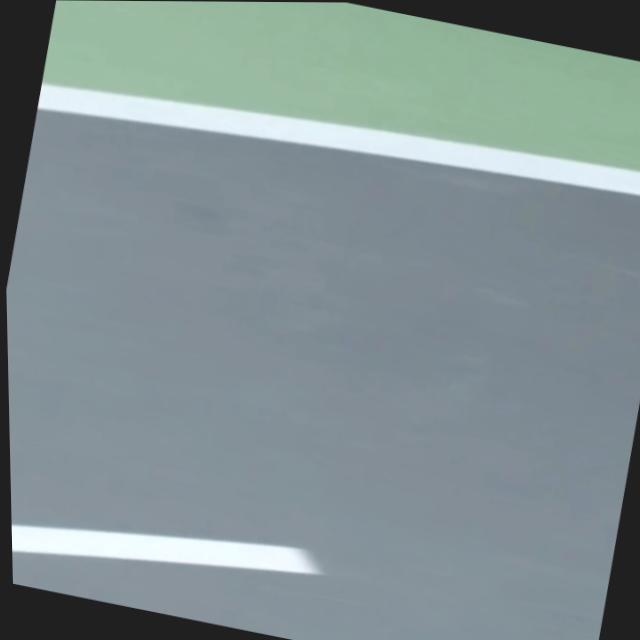center: (12, 525, 321, 574)
right: (38, 84, 640, 195)
